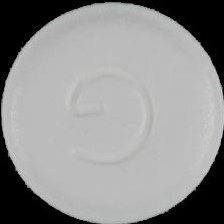68462-157: (0, 0, 224, 224)
